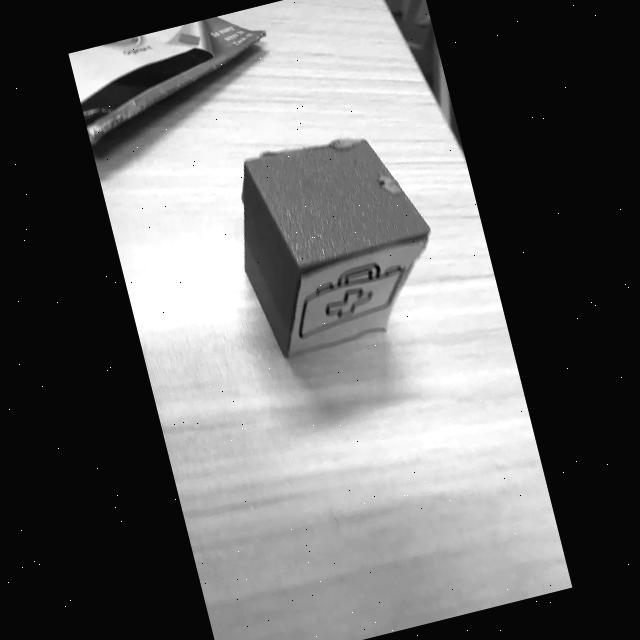Medkit: (297, 263, 403, 339)
